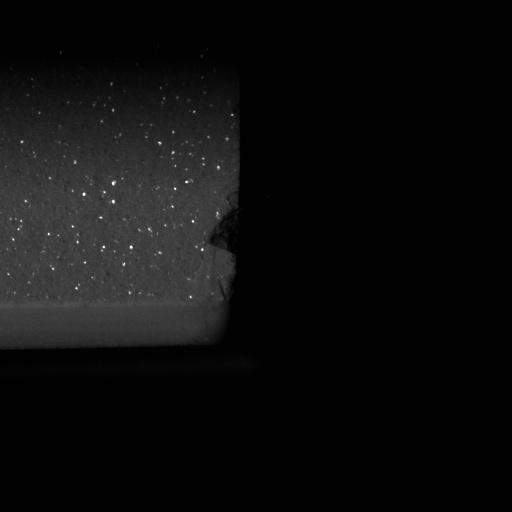bengque: (205, 211, 239, 255)
